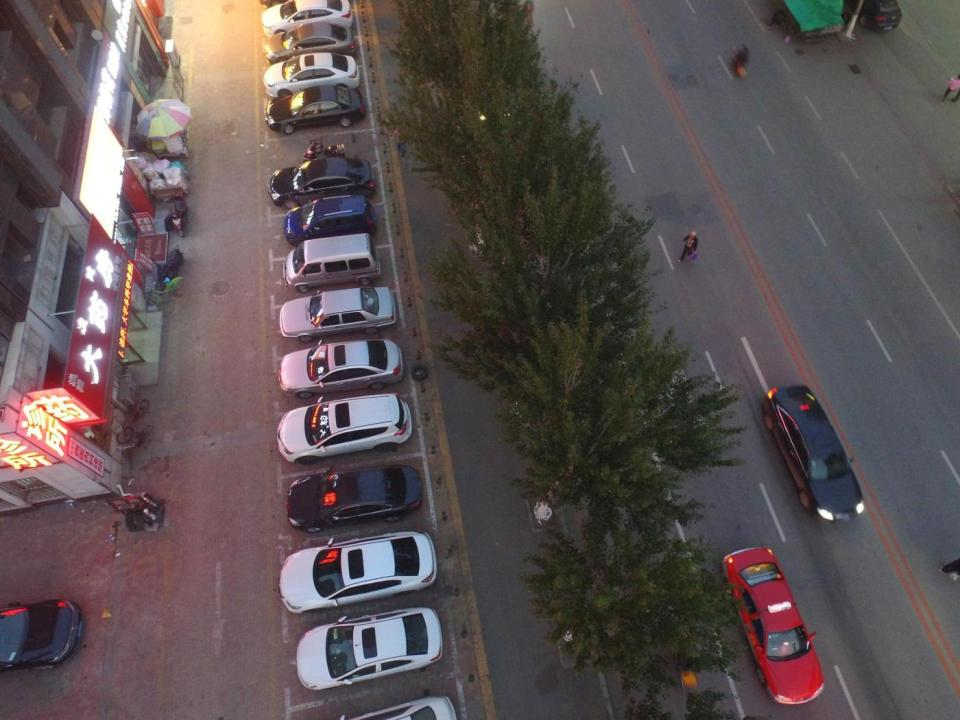car: (721, 544, 826, 708), (761, 384, 868, 526), (277, 528, 439, 613), (295, 606, 446, 689), (275, 390, 411, 466), (287, 466, 422, 532), (279, 339, 406, 400), (280, 289, 401, 343), (0, 600, 88, 672), (269, 159, 376, 204), (267, 87, 368, 134), (285, 198, 379, 242), (263, 54, 363, 94), (261, 0, 355, 39), (333, 691, 456, 720), (264, 26, 353, 62), (848, 0, 904, 31)
van: (284, 234, 380, 291), (783, 0, 840, 40)
